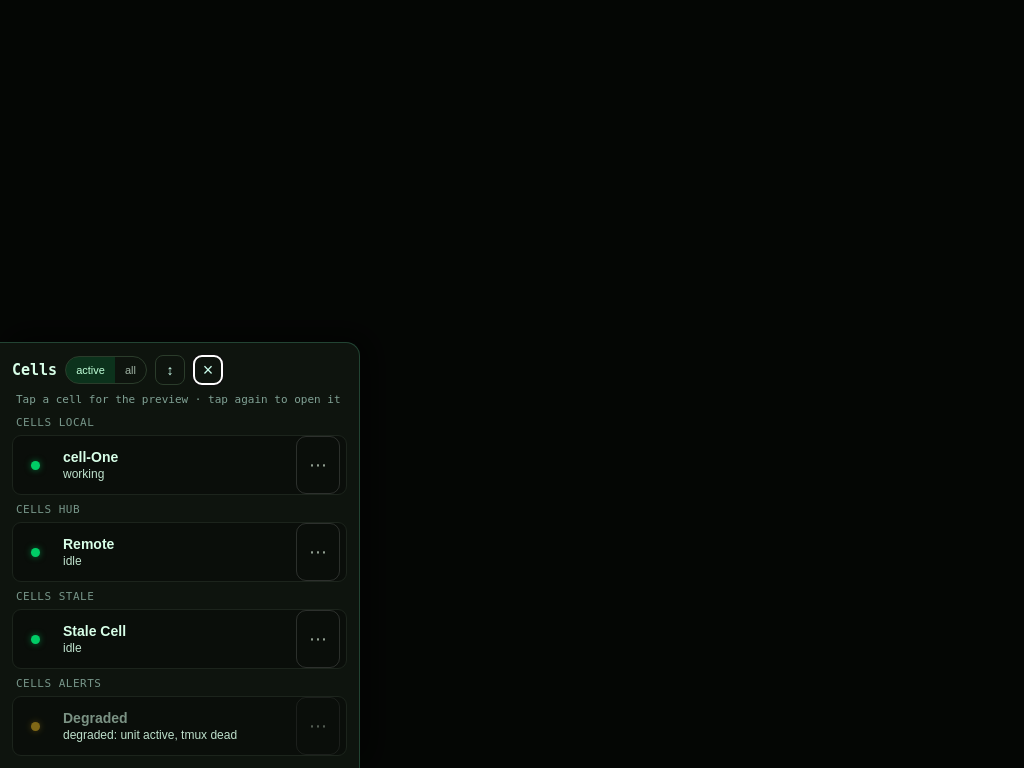
Test case: CellSwitcher › l'intestazione sta in alto, e il riordino e' una modalita'
Expected: the button "cell-One working" is shown, [63, 436, 290, 494]
Expected: the button "all" is shown, [115, 357, 146, 383]
What coordinates should you click on to do the following:
click the button named "reorder"
I would click on:
 (170, 370)
Its box is [155, 355, 185, 385].
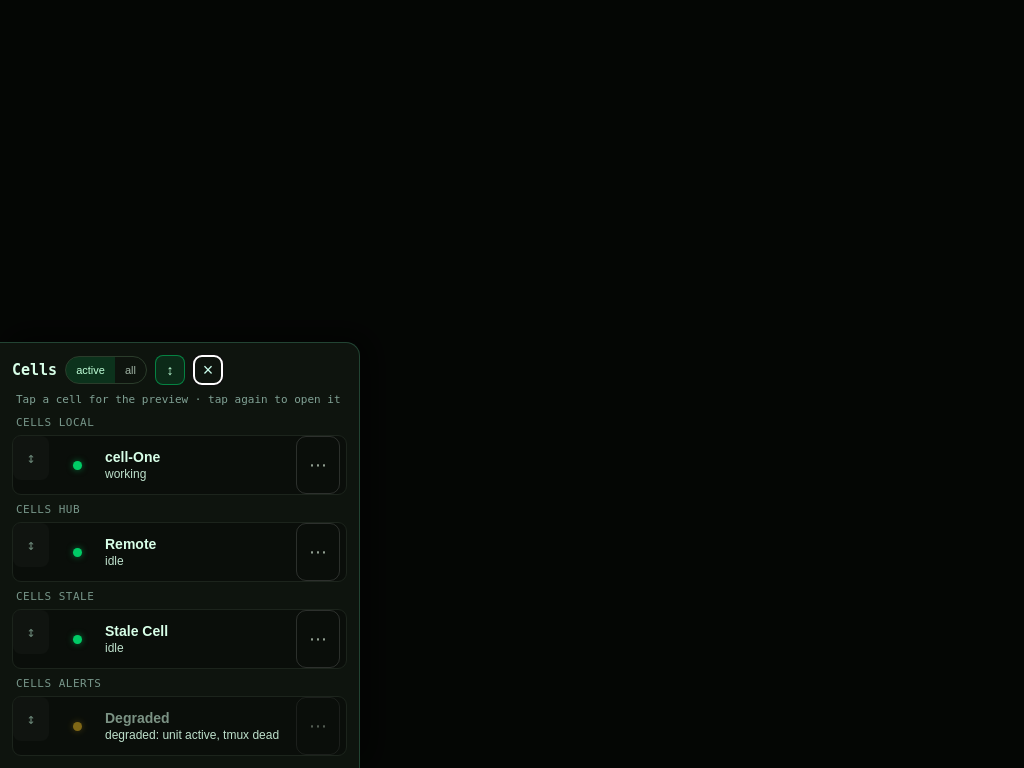
Result: the button named "reorder cell-One" is shown at [13, 436, 49, 480]
